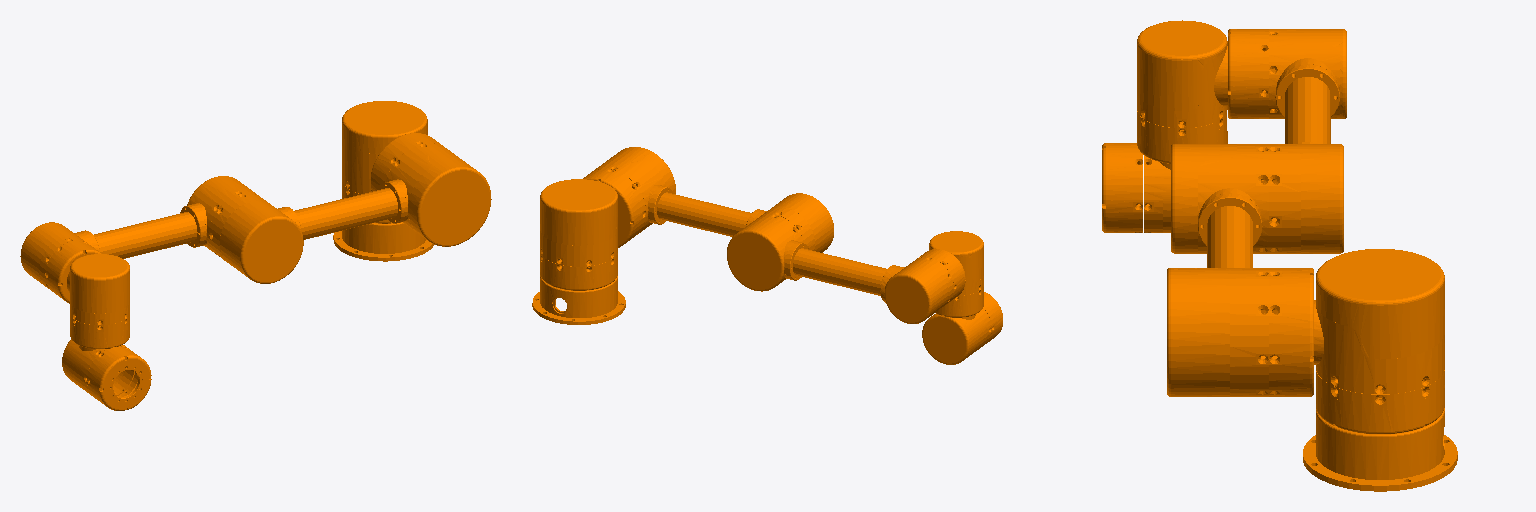
The robot description file, URDF, robot "mra6":
<robot
  name="mra6">
  <link
    name="base_link">
    <inertial>
      <origin
        xyz="-6.9899E-08 -0.0008109 0.025043"
        rpy="0 0 0" />
      <mass
        value="0.32459" />
      <inertia
        ixx="0.000391"
        ixy="8.4856E-10"
        ixz="3.069E-10"
        iyy="0.00040335"
        iyz="-1.4622E-06"
        izz="0.00064727" />
    </inertial>
    <visual>
      <origin
        xyz="0 0 0"
        rpy="0 0 0" />
      <geometry>
        <mesh
          filename="package://mra6_description/meshes/base_link.STL" />
      </geometry>
      <material
        name="">
        <color
          rgba="1 0.54902 0 1" />
      </material>
    </visual>
    <collision>
      <origin
        xyz="0 0 0"
        rpy="0 0 0" />
      <geometry>
        <mesh
          filename="package://mra6_description/meshes/base_link.STL" />
      </geometry>
    </collision>
  </link>
  <link
    name="Link1">
    <inertial>
      <origin
        xyz="-6.74372403598355E-10 5.27749662761165E-11 0.0551527830028243"
        rpy="0 0 0" />
      <mass
        value="0.184803968740656" />
      <inertia
        ixx="0.000195187615443863"
        ixy="-2.92759575067244E-12"
        ixz="6.89837577426477E-12"
        iyy="0.000195187609249399"
        iyz="-4.80136513702014E-12"
        izz="0.000343832621750447" />
    </inertial>
    <visual>
      <origin
        xyz="0 0 0"
        rpy="0 0 0" />
      <geometry>
        <mesh
          filename="package://mra6_description/meshes/Link1.STL" />
      </geometry>
      <material
        name="">
        <color
          rgba="1 0.549019607843137 0 1" />
      </material>
    </visual>
    <collision>
      <origin
        xyz="0 0 0"
        rpy="0 0 0" />
      <geometry>
        <mesh
          filename="package://mra6_description/meshes/Link1.STL" />
      </geometry>
    </collision>
  </link>
  <joint
    name="fixed_joint1"
    type="fixed">
    <origin
      xyz="0 0 0"
      rpy="0 0 0" />
    <parent
      link="base_link" />
    <child
      link="Link1" />
    <axis
      xyz="0 0 0" />
  </joint>
  <link
    name="Link2">
    <inertial>
      <origin
        xyz="-3.30788696145621E-09 -0.0309551613308166 0.109822612024743"
        rpy="0 0 0" />
      <mass
        value="0.402690036680296" />
      <inertia
        ixx="0.000905458142804875"
        ixy="-6.34561982484864E-10"
        ixz="4.08962832630573E-10"
        iyy="0.000702281504451382"
        iyz="-8.76989863108077E-06"
        izz="0.00102166682835308" />
    </inertial>
    <visual>
      <origin
        xyz="0 0 0"
        rpy="0 0 0" />
      <geometry>
        <mesh
          filename="package://mra6_description/meshes/Link2.STL" />
      </geometry>
      <material
        name="">
        <color
          rgba="1 0.549019607843137 0 1" />
      </material>
    </visual>
    <collision>
      <origin
        xyz="0 0 0"
        rpy="0 0 0" />
      <geometry>
        <mesh
          filename="package://mra6_description/meshes/Link2.STL" />
      </geometry>
    </collision>
  </link>
  <joint
    name="J1"
    type="revolute">
    <origin
      xyz="0 0 0"
      rpy="0 0 0" />
    <parent
      link="Link1" />
    <child
      link="Link2" />
    <axis
      xyz="0 0 1" />
    <limit
      lower="-3.04"
      upper="3.04"
      effort="0"
      velocity="0" />
  </joint>
  <link
    name="Link3">
    <inertial>
      <origin
        xyz="-0.112952866110464 3.31668742192814E-08 0.1178003307345"
        rpy="0 0 0" />
      <mass
        value="0.592316735310971" />
      <inertia
        ixx="0.00063623988332474"
        ixy="2.39852284409426E-09"
        ixz="-3.43043925311494E-05"
        iyy="0.00643654537644761"
        iyz="-6.58453602703965E-12"
        izz="0.00659702638683348" />
    </inertial>
    <visual>
      <origin
        xyz="0 0 0"
        rpy="0 0 0" />
      <geometry>
        <mesh
          filename="package://mra6_description/meshes/Link3.STL" />
      </geometry>
      <material
        name="">
        <color
          rgba="1 0.549019607843137 0 1" />
      </material>
    </visual>
    <collision>
      <origin
        xyz="0 0 0"
        rpy="0 0 0" />
      <geometry>
        <mesh
          filename="package://mra6_description/meshes/Link3.STL" />
      </geometry>
    </collision>
  </link>
  <joint
    name="J2"
    type="revolute">
    <origin
      xyz="0 0 0.108"
      rpy="1.5708 0 0" />
    <parent
      link="Link2" />
    <child
      link="Link3" />
    <axis
      xyz="0 0 1" />
    <limit
      lower="-3.04"
      upper="3.04"
      effort="0"
      velocity="0" />
  </joint>
  <link
    name="Link4">
    <inertial>
      <origin
        xyz="-0.1066077691049 1.32881232406401E-08 0.0574159052405117"
        rpy="0 0 0" />
      <mass
        value="0.473772723283158" />
      <inertia
        ixx="0.000328783981126777"
        ixy="-2.10069568238447E-09"
        ixz="-2.30501777030549E-05"
        iyy="0.00396296050932036"
        iyz="-2.07148315763596E-09"
        izz="0.00404929909084596" />
    </inertial>
    <visual>
      <origin
        xyz="0 0 0"
        rpy="0 0 0" />
      <geometry>
        <mesh
          filename="package://mra6_description/meshes/Link4.STL" />
      </geometry>
      <material
        name="">
        <color
          rgba="1 0.549019607843137 0 1" />
      </material>
    </visual>
    <collision>
      <origin
        xyz="0 0 0"
        rpy="0 0 0" />
      <geometry>
        <mesh
          filename="package://mra6_description/meshes/Link4.STL" />
      </geometry>
    </collision>
  </link>
  <joint
    name="J3"
    type="revolute">
    <origin
      xyz="-0.244 0 0"
      rpy="0 0 0" />
    <parent
      link="Link3" />
    <child
      link="Link4" />
    <axis
      xyz="0 0 1" />
    <limit
      lower="-2.09"
      upper="2.09"
      effort="0"
      velocity="0" />
  </joint>
  <link
    name="Link5">
    <inertial>
      <origin
        xyz="-4.68103922290908E-08 -0.00114362214534577 0.128955361124478"
        rpy="0 0 0" />
      <mass
        value="0.202874873294981" />
      <inertia
        ixx="0.000245913373372969"
        ixy="1.70539142093252E-09"
        ixz="9.94608686745797E-11"
        iyy="0.00026197235868541"
        iyz="1.00588419056724E-05"
        izz="0.000187364745659433" />
    </inertial>
    <visual>
      <origin
        xyz="0 0 0"
        rpy="0 0 0" />
      <geometry>
        <mesh
          filename="package://mra6_description/meshes/Link5.STL" />
      </geometry>
      <material
        name="">
        <color
          rgba="1 0.549019607843137 0 1" />
      </material>
    </visual>
    <collision>
      <origin
        xyz="0 0 0"
        rpy="0 0 0" />
      <geometry>
        <mesh
          filename="package://mra6_description/meshes/Link5.STL" />
      </geometry>
    </collision>
  </link>
  <joint
    name="J4"
    type="revolute">
    <origin
      xyz="-0.228 0 0"
      rpy="0 0 0" />
    <parent
      link="Link4" />
    <child
      link="Link5" />
    <axis
      xyz="0 0 1" />
    <limit
      lower="-3.04"
      upper="3.04"
      effort="0"
      velocity="0" />
  </joint>
  <link
    name="Link6">
    <inertial>
      <origin
        xyz="4.56297755135893E-08 0.00114362336157564 0.0729553611244753"
        rpy="0 0 0" />
      <mass
        value="0.202874873294981" />
      <inertia
        ixx="0.000245913372808604"
        ixy="1.70511751500744E-09"
        ixz="-1.15205099289294E-10"
        iyy="0.000261972358685429"
        iyz="-1.00588329860581E-05"
        izz="0.000187364745095092" />
    </inertial>
    <visual>
      <origin
        xyz="0 0 0"
        rpy="0 0 0" />
      <geometry>
        <mesh
          filename="package://mra6_description/meshes/Link6.STL" />
      </geometry>
      <material
        name="">
        <color
          rgba="1 0.549019607843137 0 1" />
      </material>
    </visual>
    <collision>
      <origin
        xyz="0 0 0"
        rpy="0 0 0" />
      <geometry>
        <mesh
          filename="package://mra6_description/meshes/Link6.STL" />
      </geometry>
    </collision>
  </link>
  <joint
    name="J5"
    type="revolute">
    <origin
      xyz="0 0 0.153"
      rpy="1.5708 0 0" />
    <parent
      link="Link5" />
    <child
      link="Link6" />
    <axis
      xyz="0 0 -1" />
    <limit
      lower="-3.04"
      upper="3.04"
      effort="0"
      velocity="0" />
  </joint>
  <link
    name="Link7">
    <inertial>
      <origin
        xyz="-1.33627503506872E-09 1.37659412861868E-09 0.0488817082462309"
        rpy="0 0 0" />
      <mass
        value="0.0896211819235301" />
      <inertia
        ixx="5.33822622222197E-05"
        ixy="2.10561024502818E-12"
        ixz="-4.98909764083514E-12"
        iyy="5.33822700832826E-05"
        iyz="1.48979827135486E-12"
        izz="8.69474020004336E-05" />
    </inertial>
    <visual>
      <origin
        xyz="0 0 0"
        rpy="0 0 0" />
      <geometry>
        <mesh
          filename="package://mra6_description/meshes/Link7.STL" />
      </geometry>
      <material
        name="">
        <color
          rgba="1 0.549019607843137 0 1" />
      </material>
    </visual>
    <collision>
      <origin
        xyz="0 0 0"
        rpy="0 0 0" />
      <geometry>
        <mesh
          filename="package://mra6_description/meshes/Link7.STL" />
      </geometry>
    </collision>
  </link>
  <joint
    name="J6"
    type="revolute">
    <origin
      xyz="0 0 0.097"
      rpy="-1.5708 0 0" />
    <parent
      link="Link6" />
    <child
      link="Link7" />
    <axis
      xyz="0 0 1" />
    <limit
      lower="-3.04"
      upper="3.04"
      effort="0"
      velocity="0" />
  </joint>
  <link
    name="ee_link" />
  <joint
    name="fixed_joint2"
    type="fixed">
    <origin
      xyz="0 0 0.112"
      rpy="0 0 0" />
    <parent
      link="Link7" />
    <child
      link="ee_link" />
    <axis
      xyz="0 0 0" />
  </joint>
</robot>

--- Facts derived from the render (not from the file) ---
Views: 3 orthographic renders of the robot side by side, from view 1: azimuth 30°, elevation 25°; view 2: azimuth 150°, elevation 25°; view 3: azimuth 270°, elevation 25°.
Robot: mra6 — 9 links, 8 joints (6 revolute, 2 fixed); root link base_link; default pose: all joints at 0.
Links seen in each view (by area): view 1: Link3, Link4, Link2, Link5, Link6, base_link, Link7; view 2: Link4, Link2, Link3, Link6, base_link, Link5, Link1, Link7; view 3: Link3, Link2, Link4, Link5, base_link, Link1, Link6, Link7.
Link boxes in pixels (x1,y1,x2,y2): Link3: (209,143,491,283); Link4: (20,176,258,288); Link2: (342,101,442,193); Link5: (46,241,129,324); Link6: (62,315,135,395); base_link: (333,222,434,261); Link7: (87,346,151,410); Link4: (727,214,953,323); Link2: (540,169,645,266); Link3: (592,147,833,252); Link6: (922,287,991,364); base_link: (532,275,625,324); Link5: (917,231,983,304); Link1: (540,252,617,290); Link7: (983,292,1002,343); Link3: (1167,144,1268,396); Link2: (1269,249,1444,396); Link4: (1269,29,1346,253); Link5: (1137,20,1268,127); base_link: (1303,398,1457,491); Link1: (1316,370,1444,433); Link6: (1137,111,1227,232); Link7: (1102,143,1142,232).
Bounding box of the posed robot: 0.5668 × 0.275 × 0.182 m (x, y, z).
Meshes: 8 distinct files referenced, 8 mesh visuals loaded (8 binary STL).
